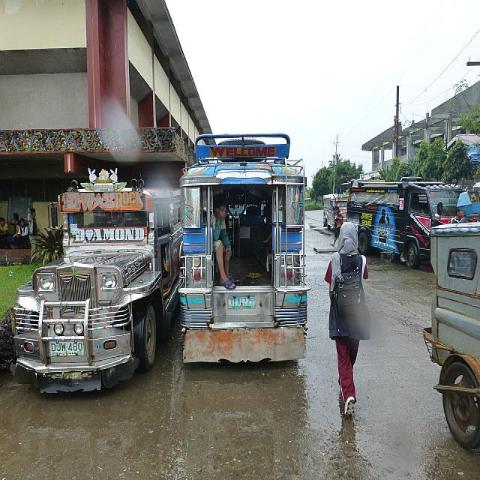jeepney: (11, 179, 178, 387), (176, 136, 308, 374), (347, 174, 471, 273), (321, 192, 345, 230)
